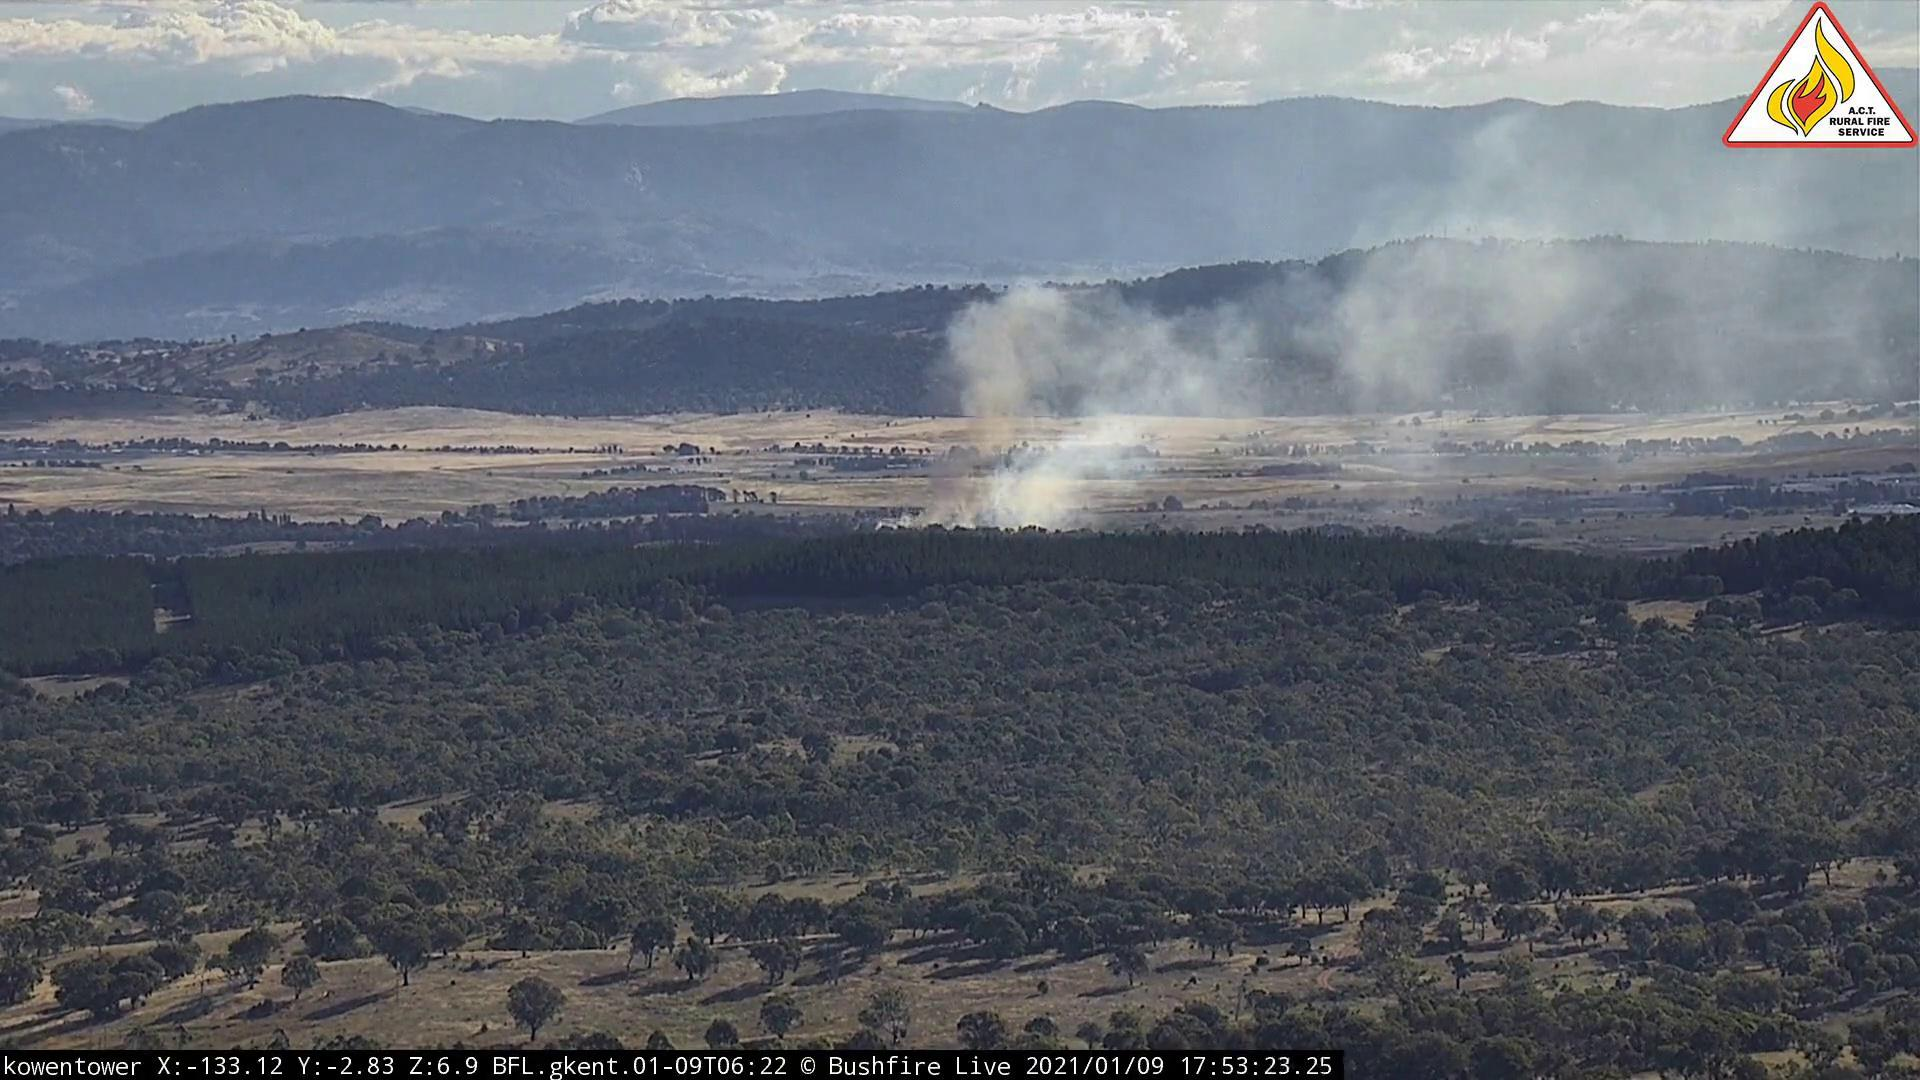Smoke: (886, 154, 1859, 545)
